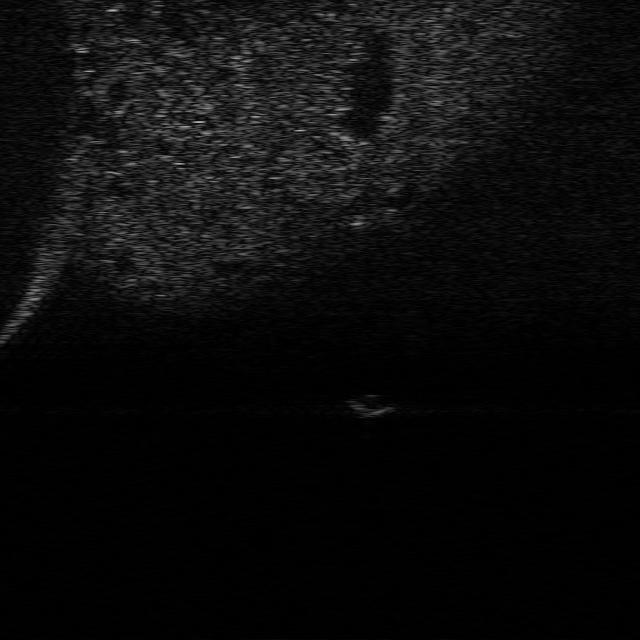cube: (343, 393, 398, 417)
